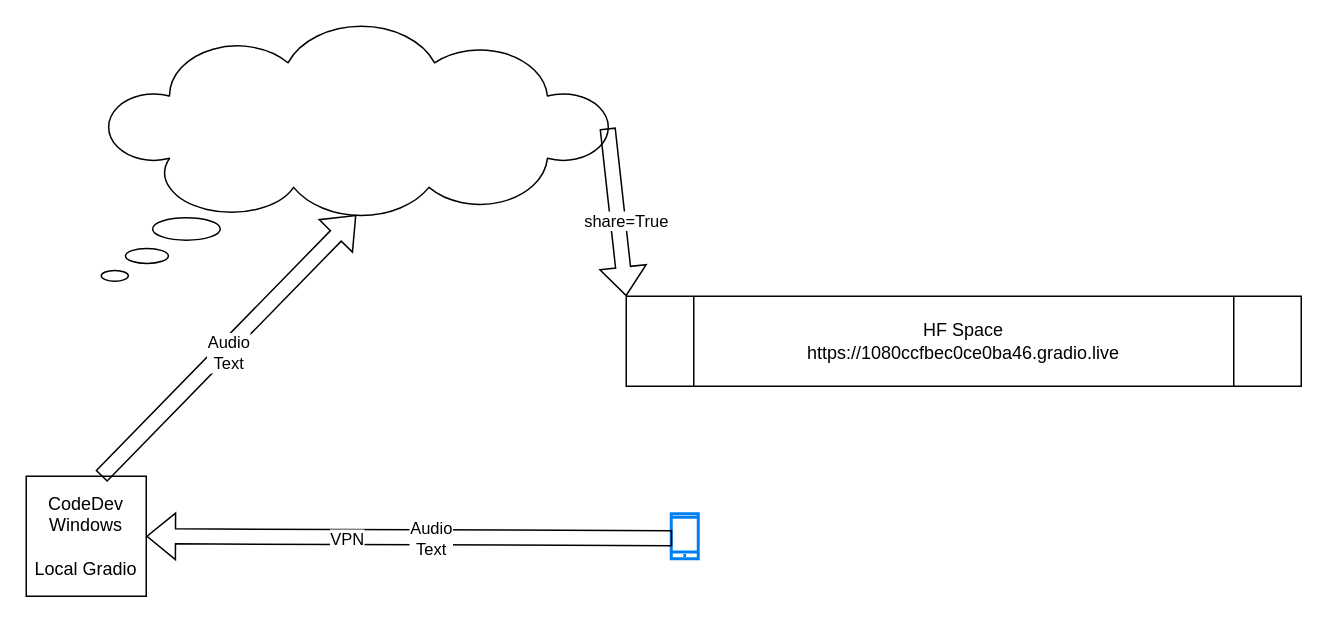
Some shapes in this 1328 by 623 pixel diagram are drawn without their labels. The centre of each missing label's shape, as x and y in pixels:
"Handy" belongs at [684,536].
"Huggingface CodeDev Whisper Stable Diffusion LLM" belongs at [355,153].
